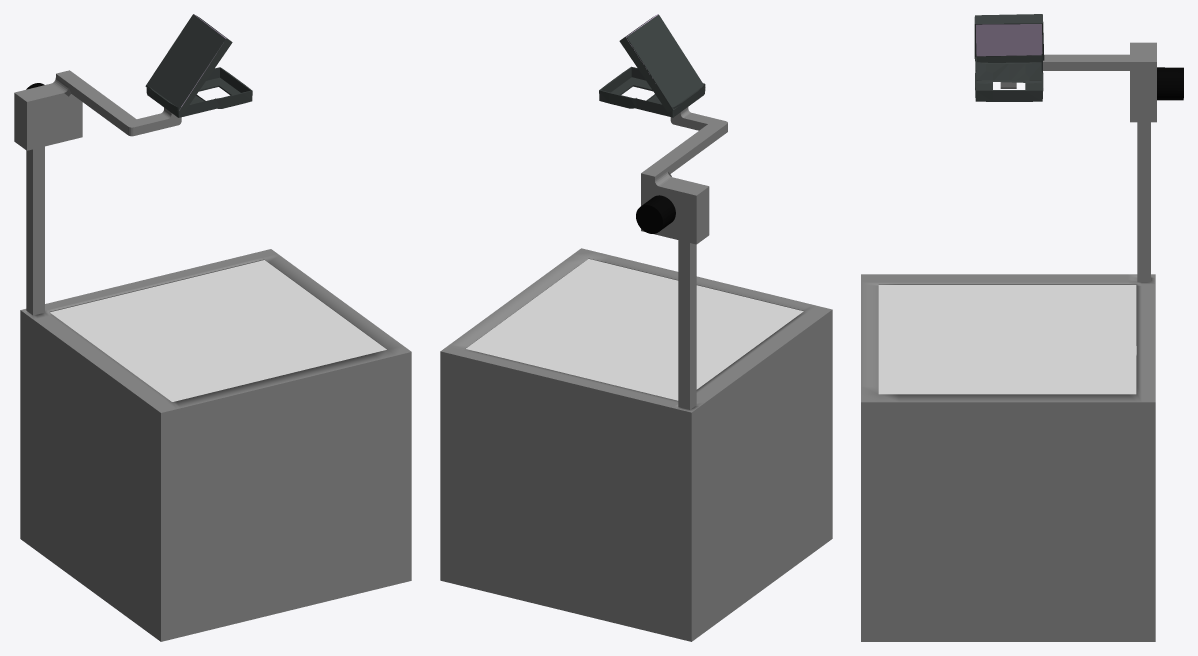
File: OHP_final.fbx
3 renders of one model, left to right at view 1: azimuth 30°, elevation 25°; view 2: azimuth 150°, elevation 25°; view 3: azimuth 270°, elevation 25°, orthographic. The views are drawn at different scales.
Visible parts, largest first — view 1: Cube, Fläche, Würfel, Klappbarer Spiegel.001, Cube.001, Klappbarer Spiegel; view 2: Cube, Fläche, Würfel, Klappbarer Spiegel.001, Cube.001, Klappbarer Spiegel, Knopf; view 3: Cube, Fläche, Würfel, Klappbarer Spiegel.001, Klappbarer Spiegel, Cube.001, Knopf.
Boxes of the visible parts, box(x1,y1,x2,y2) form: Cube: box(20, 249, 411, 641); Fläche: box(50, 260, 386, 401); Würfel: box(14, 70, 181, 150); Klappbarer Spiegel.001: box(145, 14, 232, 113); Cube.001: box(26, 146, 44, 315); Klappbarer Spiegel: box(146, 67, 252, 117); Cube: box(440, 248, 832, 641); Fläche: box(466, 259, 803, 400); Würfel: box(641, 107, 727, 244); Klappbarer Spiegel.001: box(619, 14, 705, 112); Cube.001: box(678, 240, 696, 409); Klappbarer Spiegel: box(599, 66, 705, 117); Knopf: box(636, 195, 675, 233); Cube: box(861, 274, 1155, 641); Fläche: box(878, 285, 1136, 394); Würfel: box(1000, 42, 1156, 122); Klappbarer Spiegel.001: box(974, 14, 1044, 60); Klappbarer Spiegel: box(975, 53, 1043, 101); Cube.001: box(1137, 122, 1150, 282); Knopf: box(1157, 67, 1183, 100).
Size of the model in its own units: 378 by 754 by 393.
